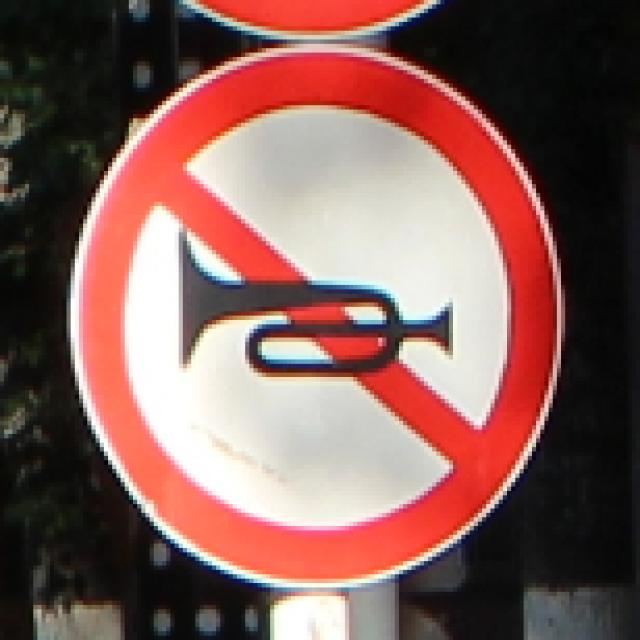No Horn: (64, 44, 570, 587)
